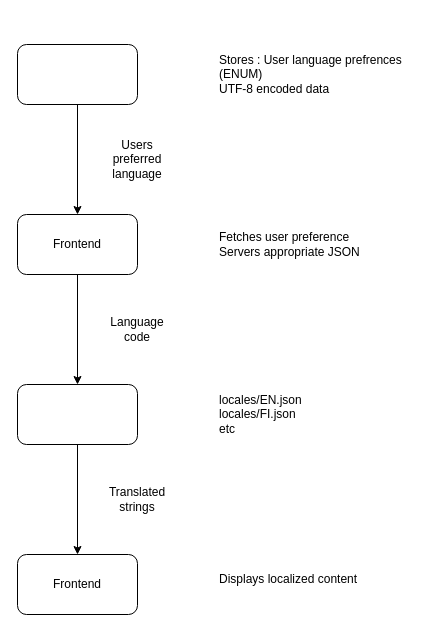
Image size: 440x632. Some labels were removed from this diagram. Each missing label, with the centre of its shape:
"Database (Supabase)" belongs at [77,74].
"JSON files (i18n)" belongs at [77,414].
